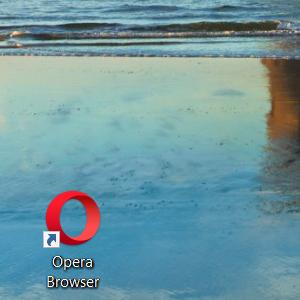opera: (42, 191, 101, 249)
